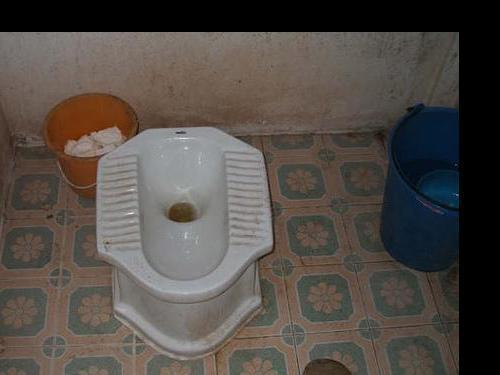Bote de Basura: (40, 93, 145, 201)
Sanitario: (92, 122, 275, 368)
